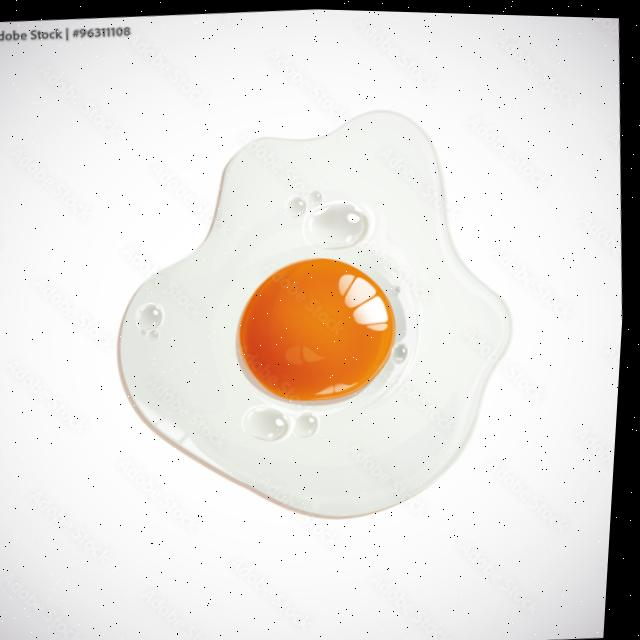Egg: (123, 108, 514, 514)
